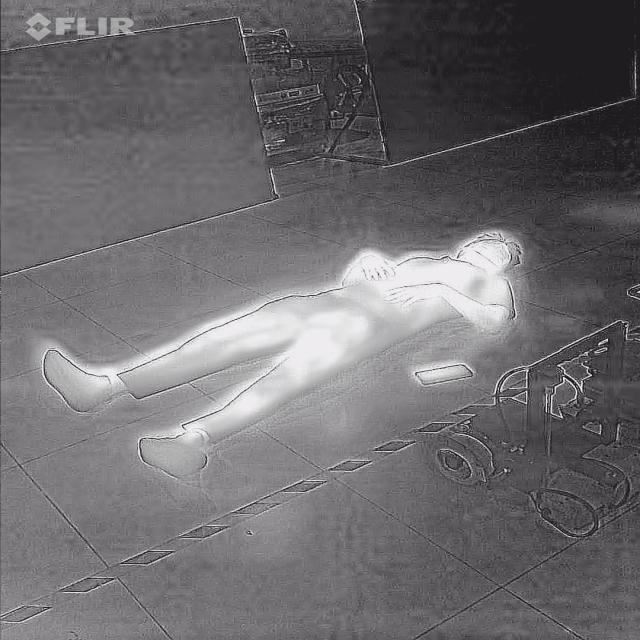Victim: (34, 230, 526, 480)
